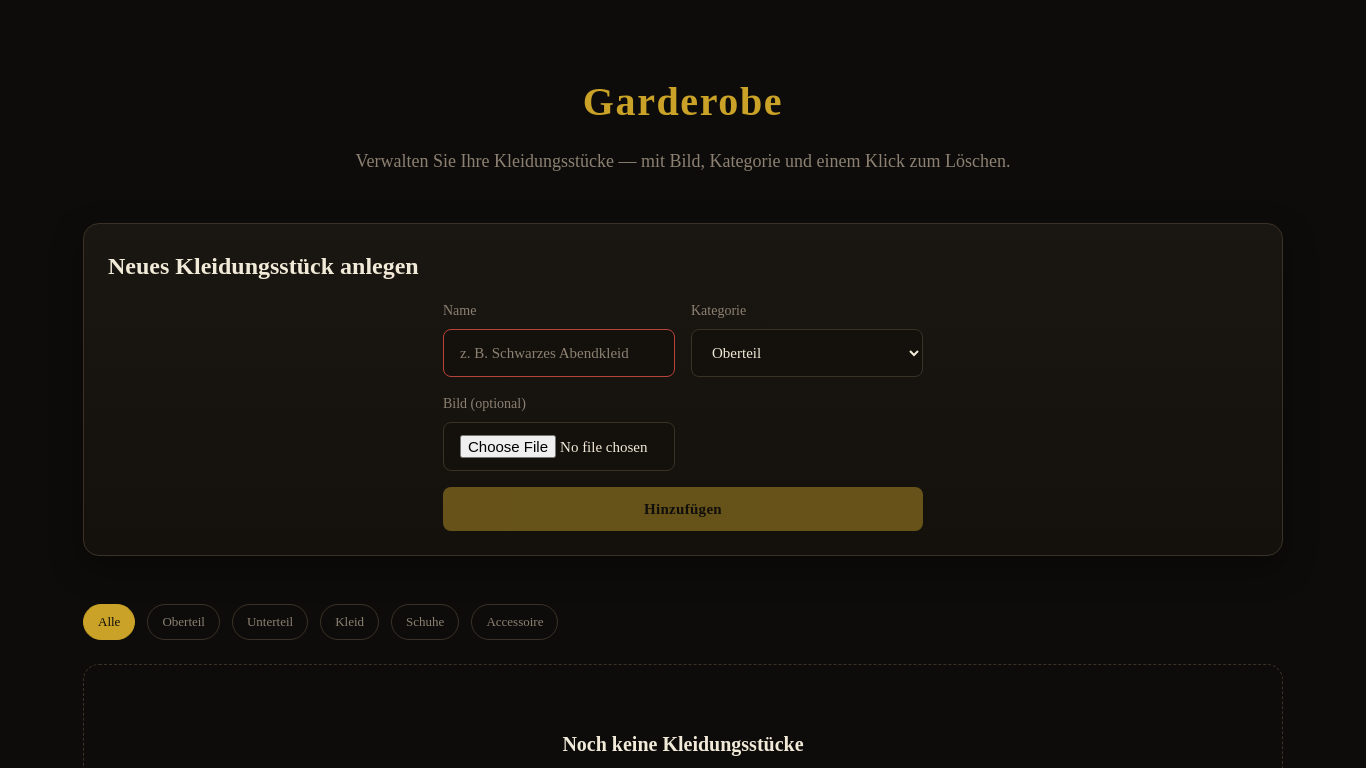
it: Wardrobe › zeigt bei einer zu großen Datei (413) eine verständliche Meldung
Expected: the heading "Noch keine Kleidungsstücke" is shown, [562,733,804,755]
Type "Zu groß" into the field labelled "Name" at coordinates (559, 353), box [443,329,675,377]
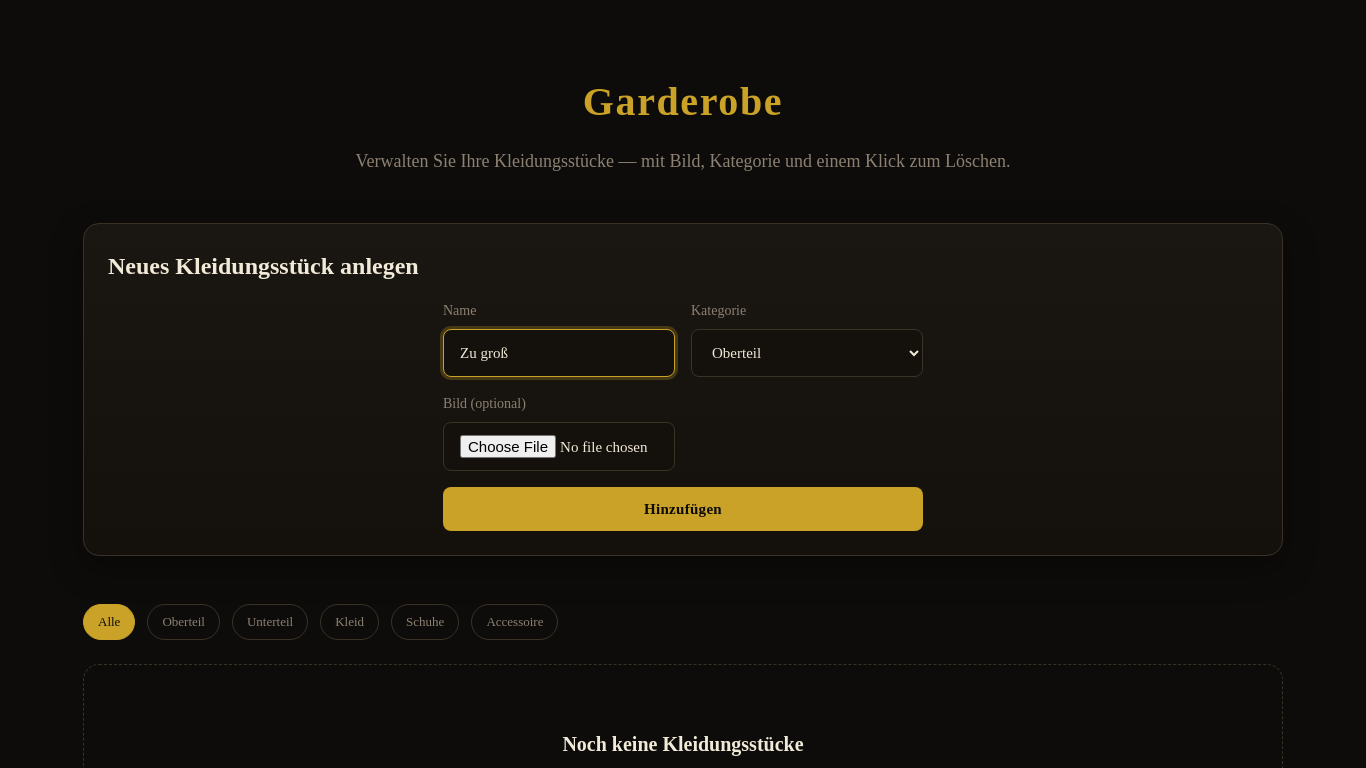
Click the button "Hinzufügen" at coordinates (683, 509), box [443,487,923,531]
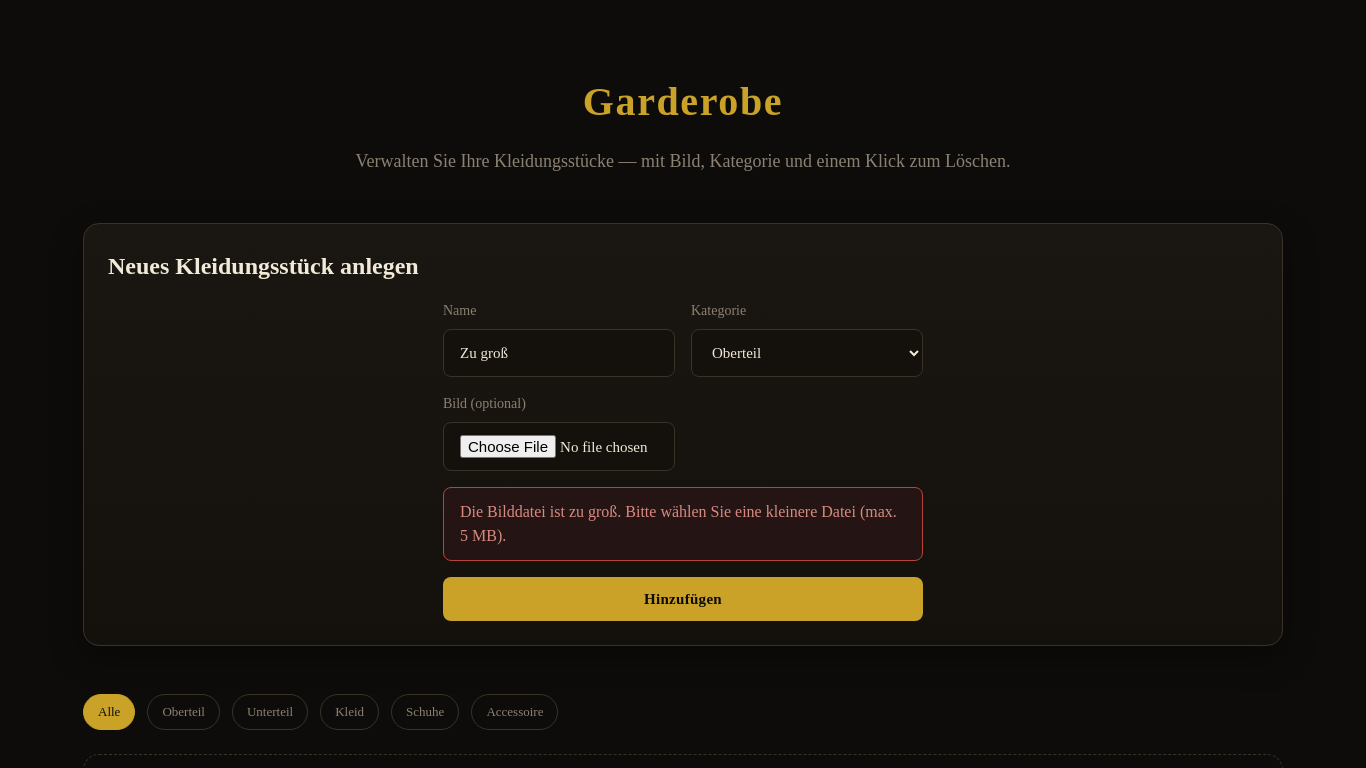
Now the message shows "zu groß", box [460,503,897,544]
